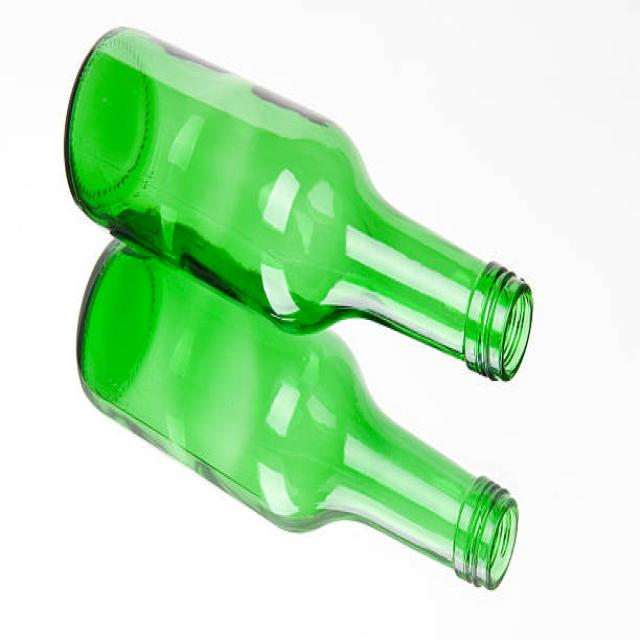electronic: (60, 19, 533, 593)
